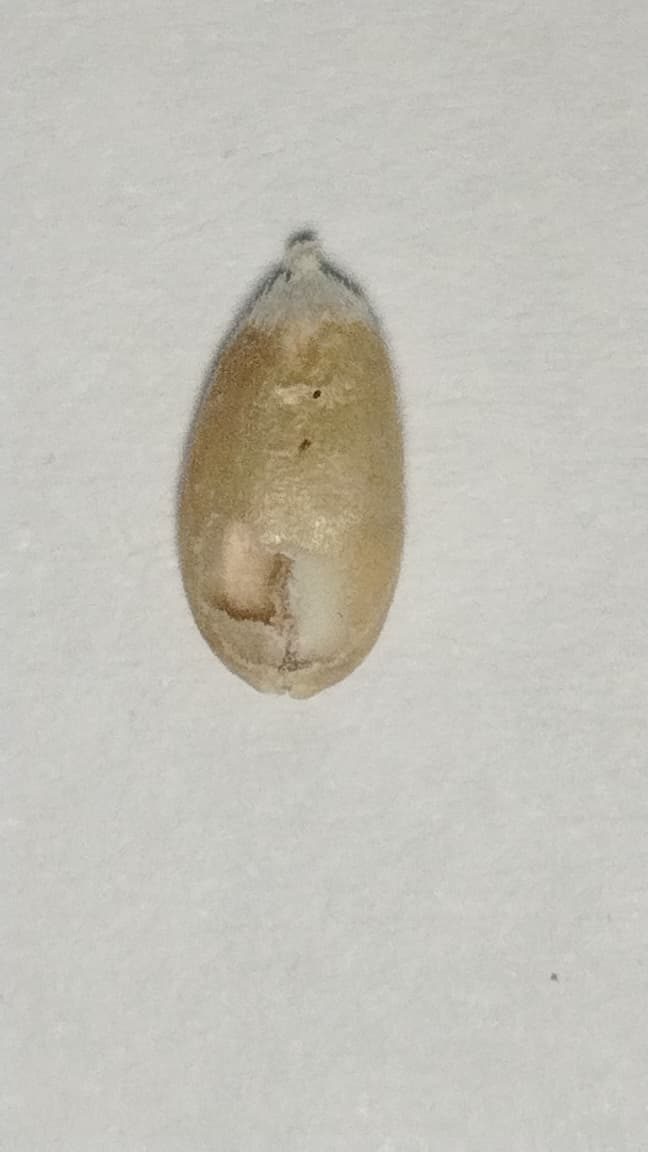damage: (179, 239, 405, 697)
insectdamage: (176, 472, 387, 690)
